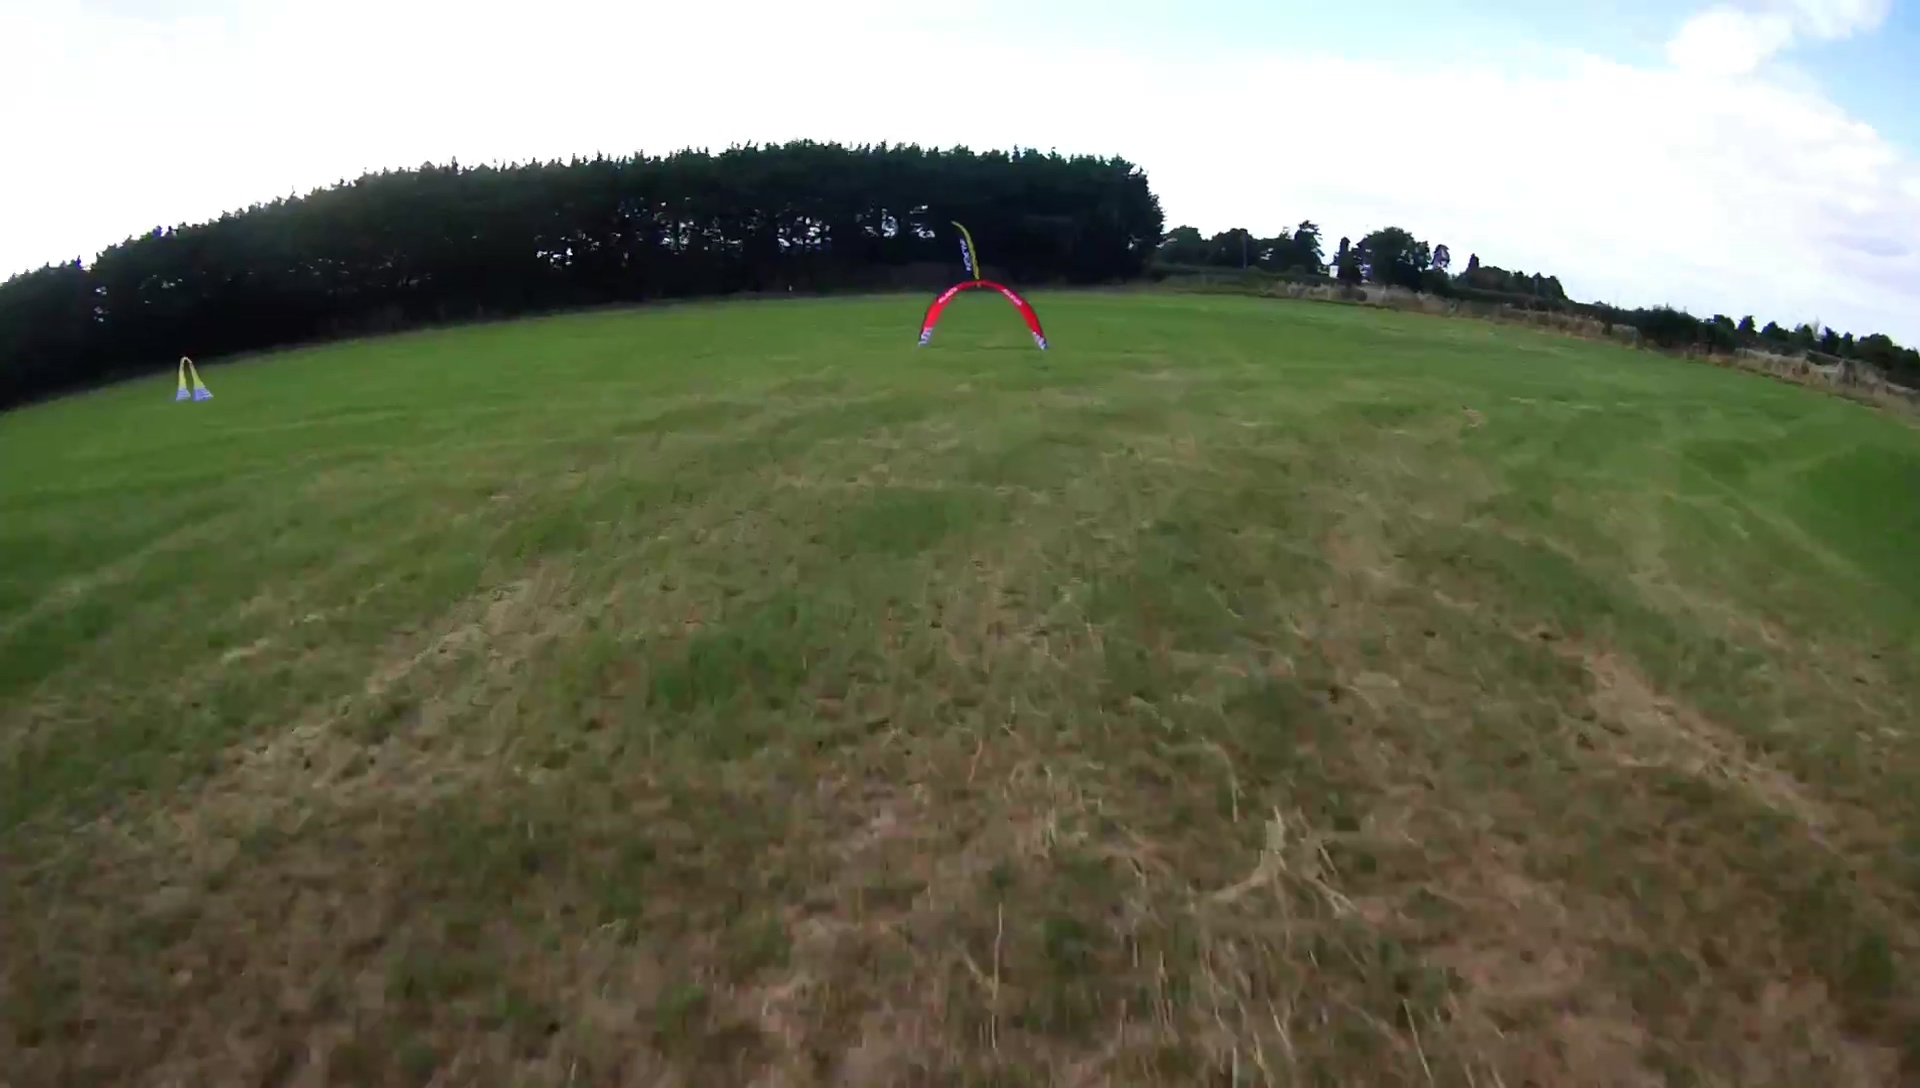gate: (918, 278, 1048, 353), (170, 353, 214, 400)
